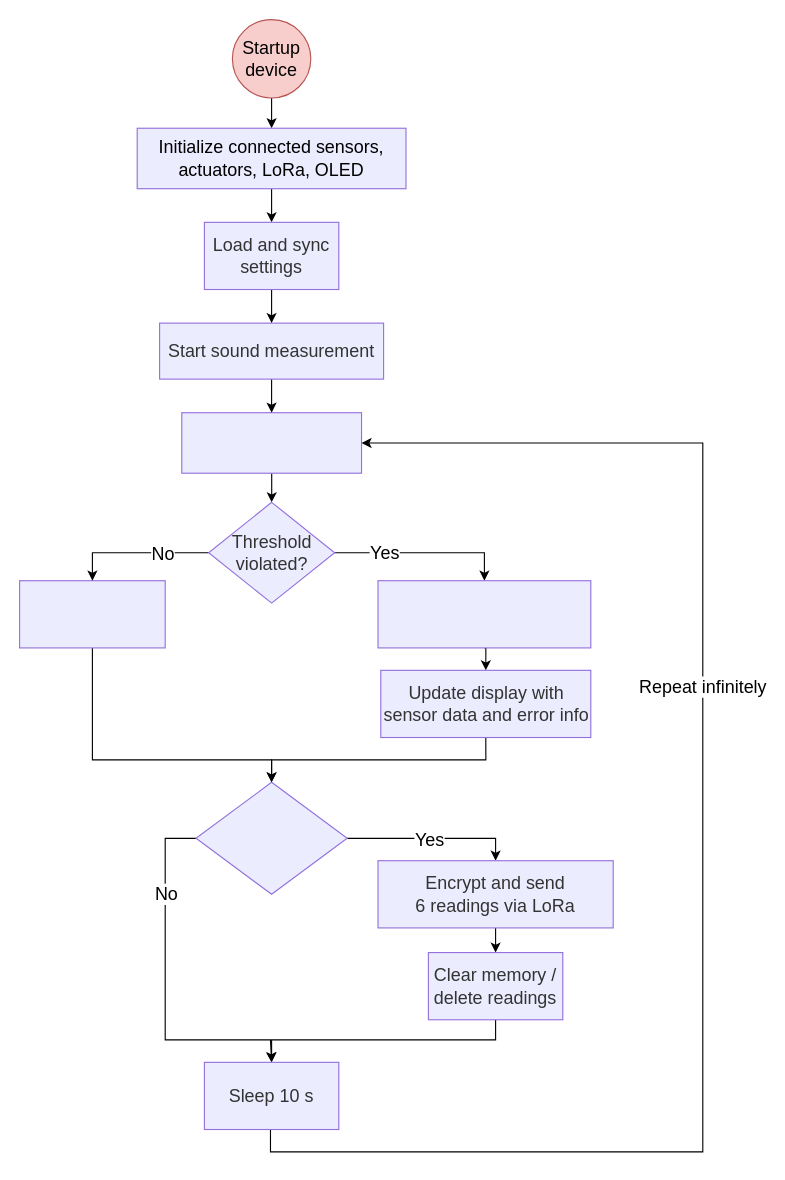
The diagram is 785 pixels wide and 1180 high, and some of its shapes have lost their labels. The centre of each missing label's shape, as x and y in pixels:
6 sensor readings collected?: the point at 271,837
Read all sensor data and store in memory: the point at 271,442
Trigger actuators (fan/heater/humidifier): the point at 484,614
Update display with sensor data: the point at 91,614
